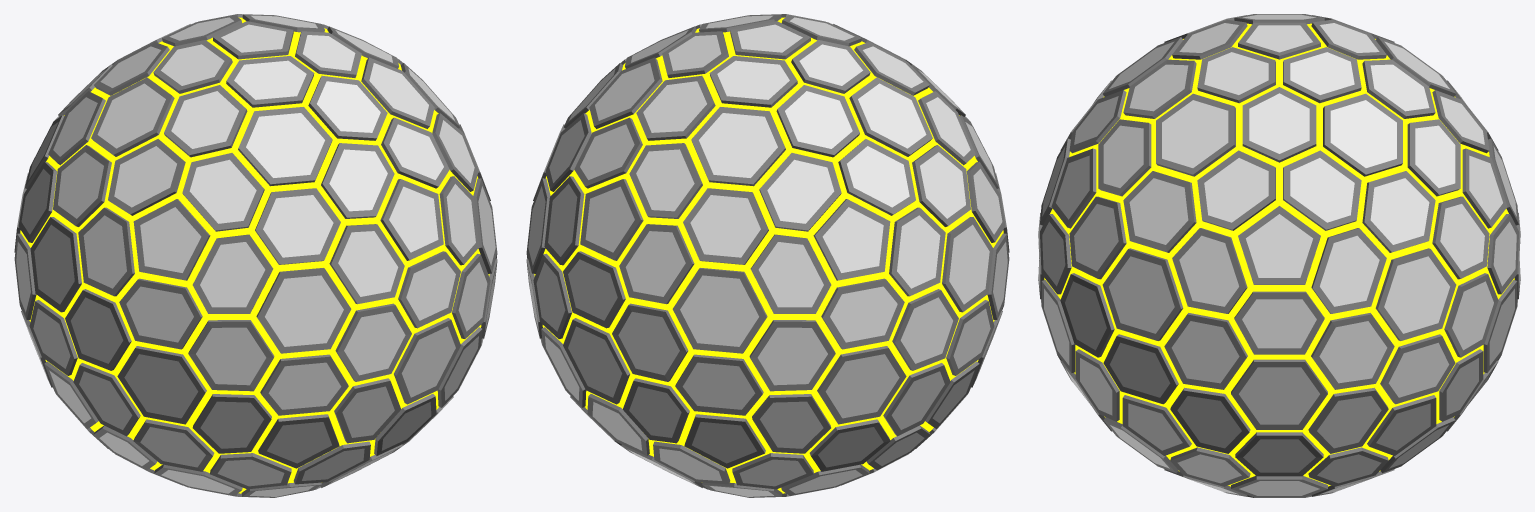
File: Vr Props - Sphere.fbx
3 views of the same model, side by side, from view 1: azimuth 30°, elevation 25°; view 2: azimuth 150°, elevation 25°; view 3: azimuth 270°, elevation 25° (orthographic).
Visible parts, largest first — view 1: Icosphere.002; view 2: Icosphere.002; view 3: Icosphere.002.
Boxes of the visible parts, x1,y1,x2,y2 form: Icosphere.002: [14, 14, 497, 497]; Icosphere.002: [526, 14, 1009, 497]; Icosphere.002: [1038, 14, 1520, 497].
Bounding box in the file's own units: 209 × 208 × 208.
